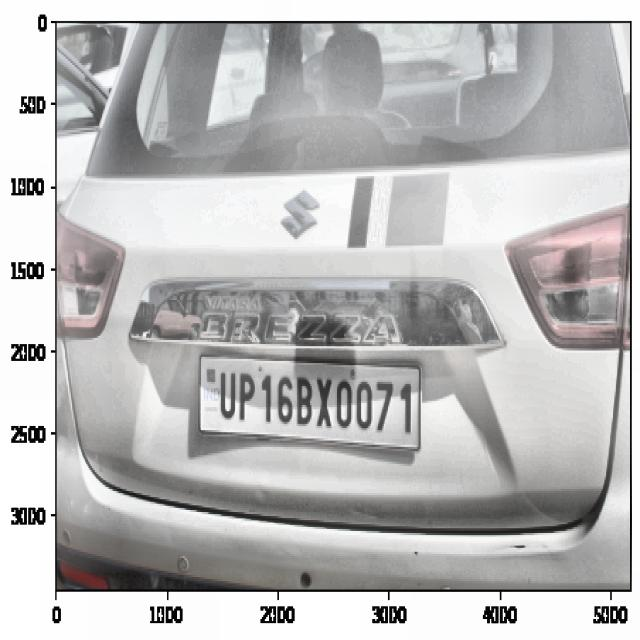license_plate: (211, 360, 418, 444)
